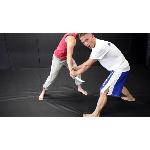Pisau: (65, 68, 88, 86)
